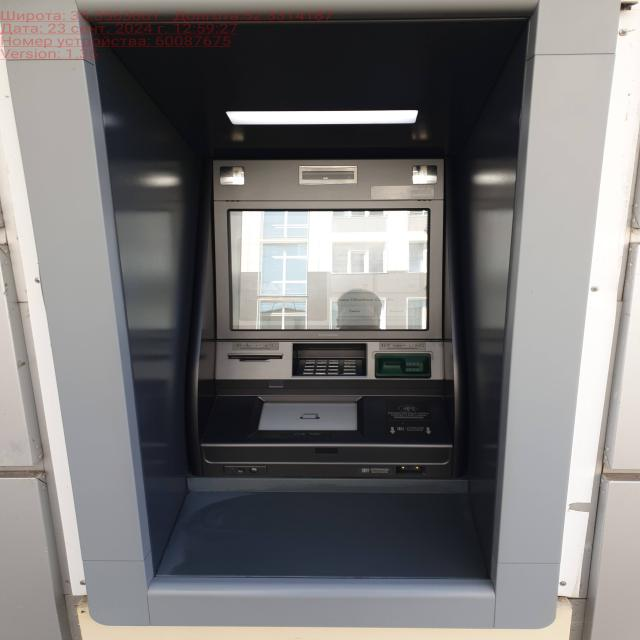bank: (98, 33, 516, 590)
